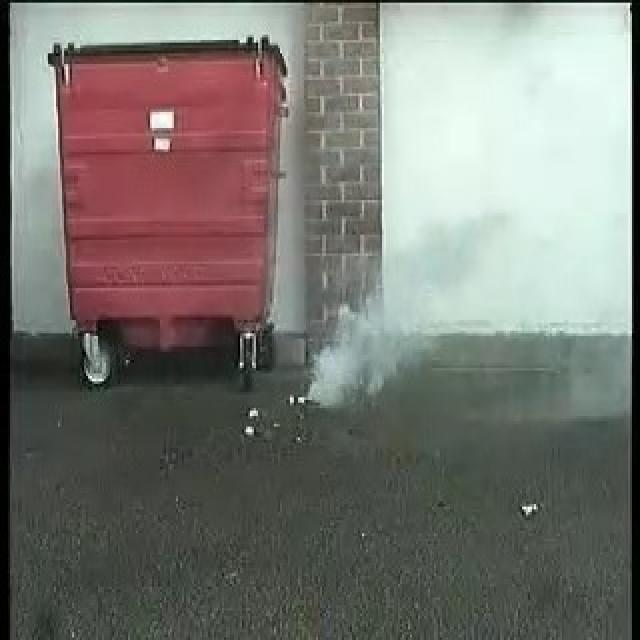smoke: (306, 267, 438, 412)
